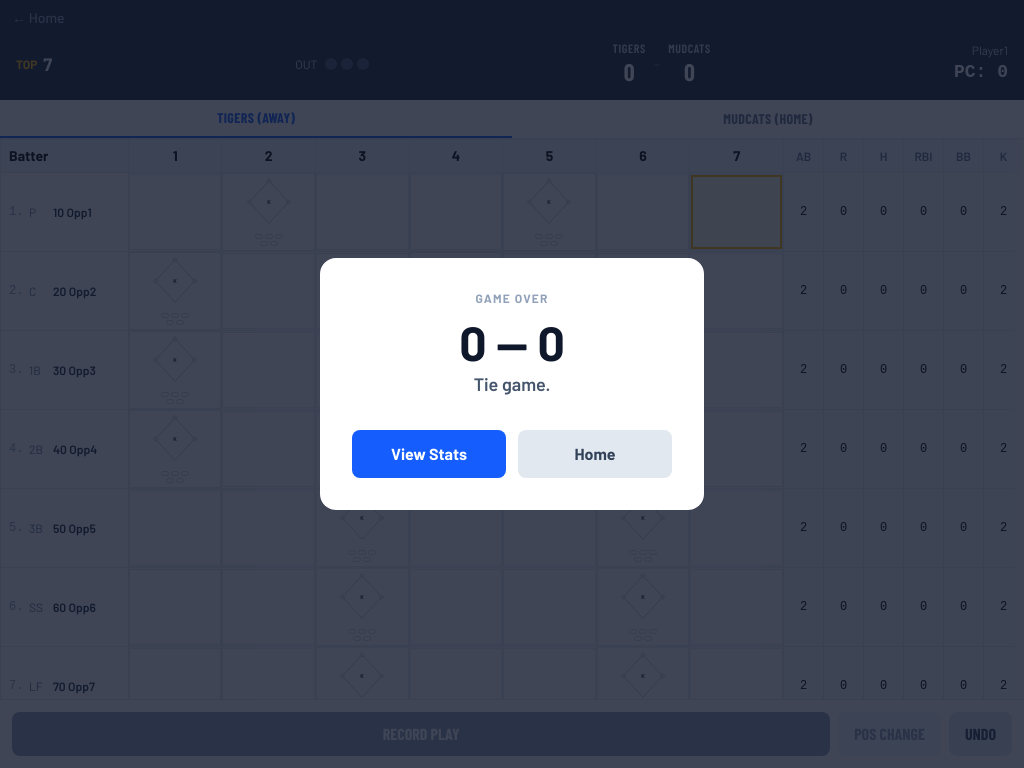
Test: GamePage › should dismiss game-over overlay when clicking the backdrop
Expected: the text "Game Over" is shown, [476,291,548,305]
# Click the backdrop (the fixed overlay behind the dialog card)
Click the text "Game Over".
click(61, 384)  # box [0,0,1023,767]
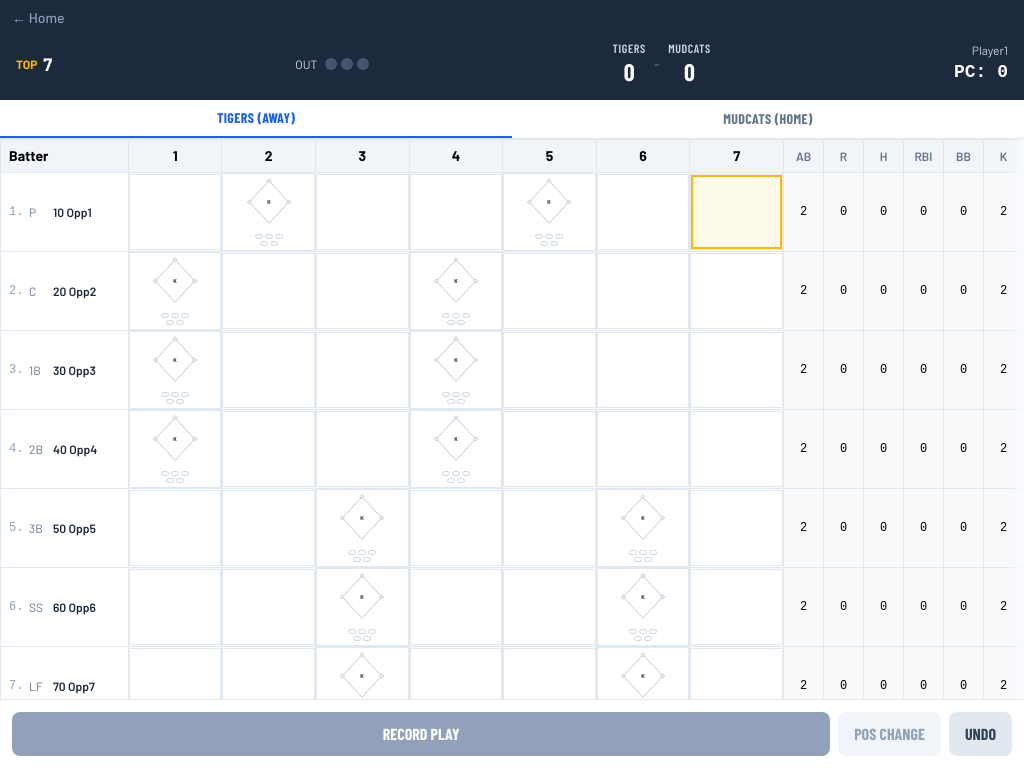
Expected: the text "Game Over" is gone
